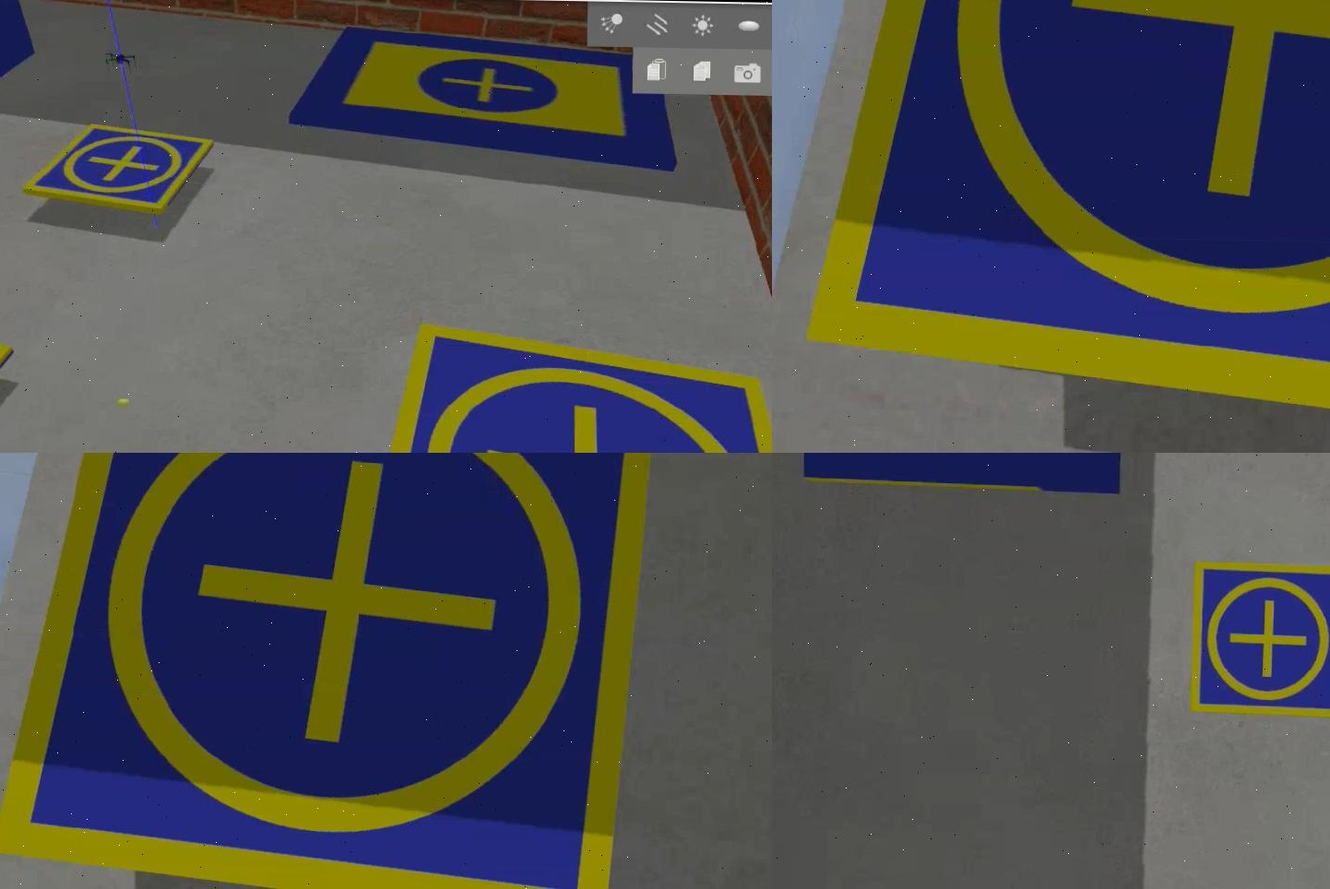large_base: (285, 26, 680, 177)
small_base: (0, 454, 660, 889), (804, 1, 1328, 443), (347, 323, 771, 454), (1185, 560, 1328, 717), (19, 128, 212, 221)
